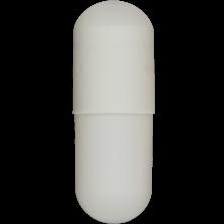68151-0609: (0, 0, 224, 224)
